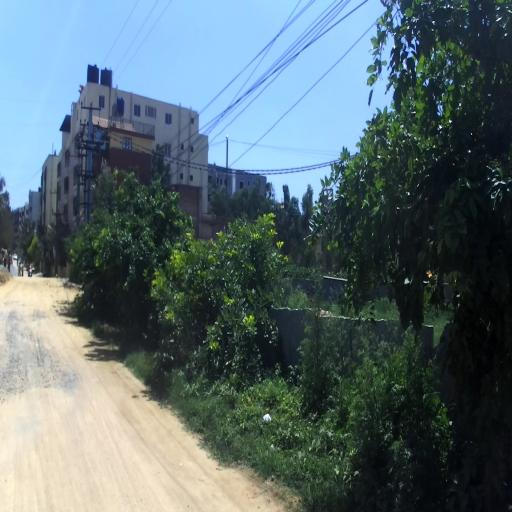street_light_0: (48, 224, 56, 234)
